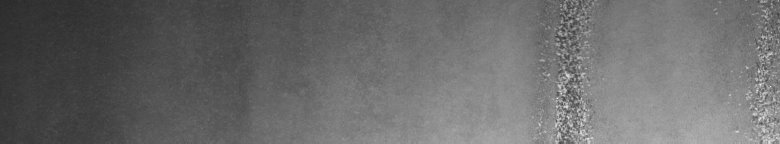hc: (532, 4, 599, 136)
